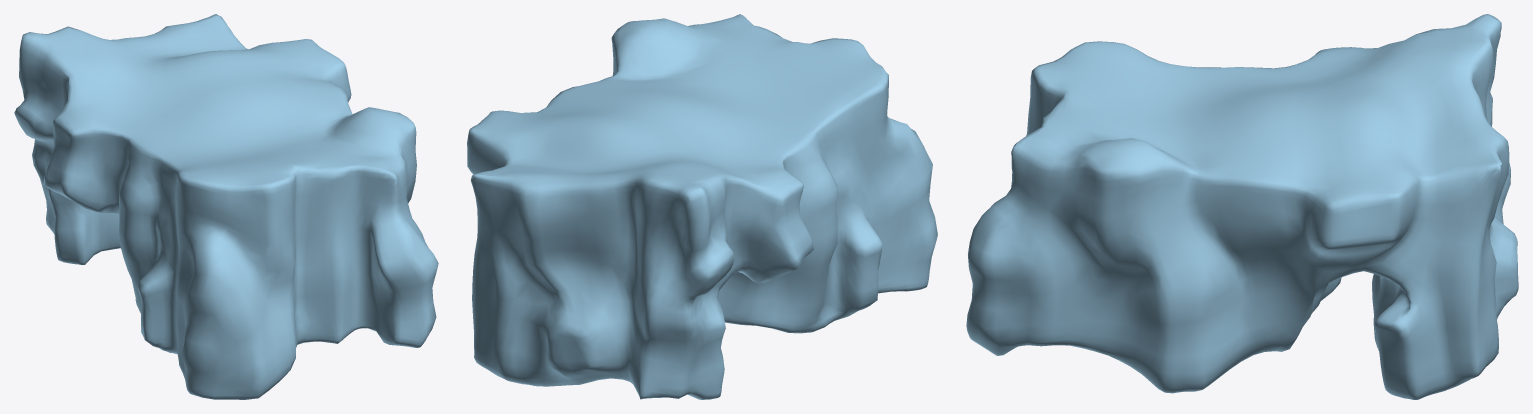
The model's file is Land3.fbx.
The picture shows the model from 3 angles, left to right: view 1: azimuth 30°, elevation 25°; view 2: azimuth 150°, elevation 25°; view 3: azimuth 270°, elevation 25°; orthographic projection. The views are drawn at different scales.
Parts seen in each view (by area): view 1: Retopo_Iceburg 3.001; view 2: Retopo_Iceburg 3.001; view 3: Retopo_Iceburg 3.001.
Boxes of the visible parts, bbox=[...] form: Retopo_Iceburg 3.001: bbox=[14, 14, 438, 399]; Retopo_Iceburg 3.001: bbox=[467, 14, 937, 399]; Retopo_Iceburg 3.001: bbox=[966, 14, 1518, 399].
Bounding box in the file's own units: 188 × 143 × 261.
